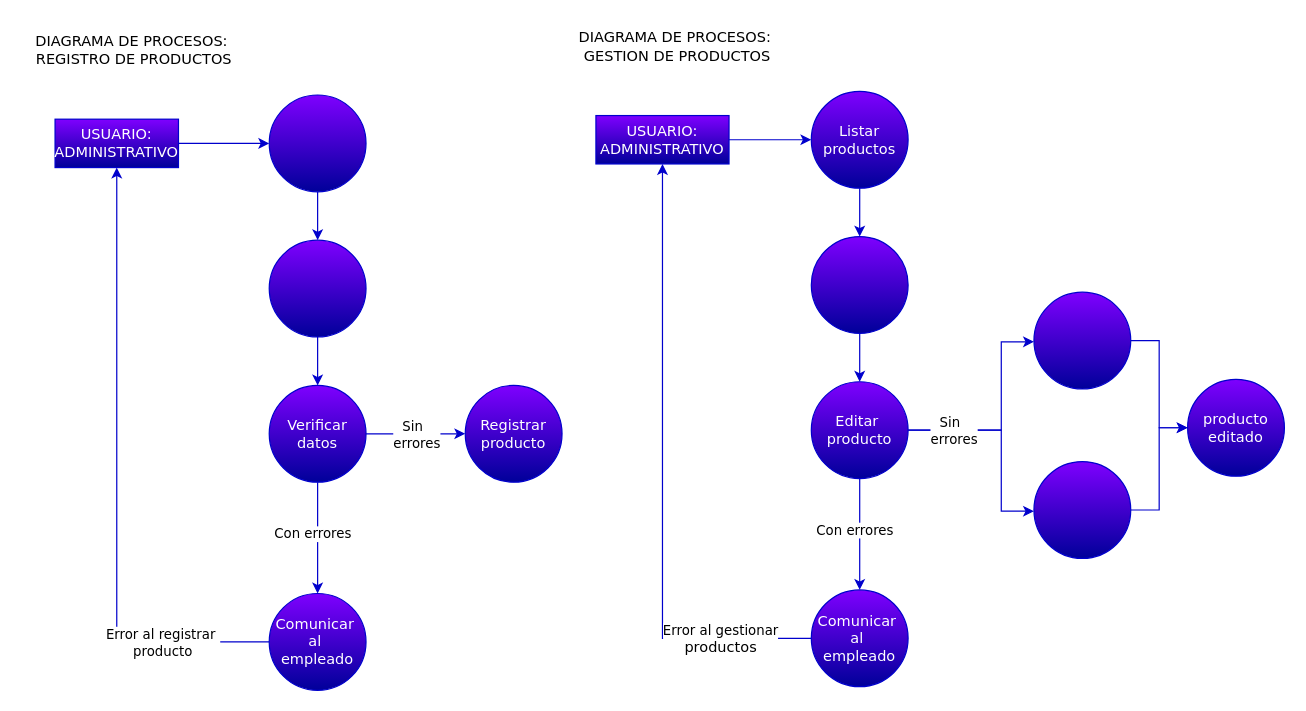
This 1306x711 diagram has some shape labels left out. Each missing label, with the box of its shape:
Eliminar producto: (1033, 460, 1131, 558)
llenar campos requeridos: (268, 239, 366, 337)
Modificar producto: (1033, 291, 1131, 389)
Recopilar datos: (268, 94, 366, 192)
Seleccionar categoria: (810, 235, 908, 333)
